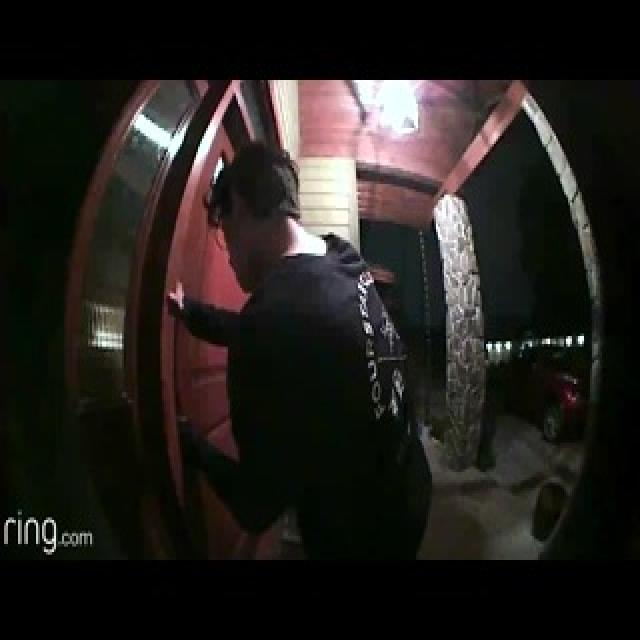thief: (158, 125, 330, 358)
